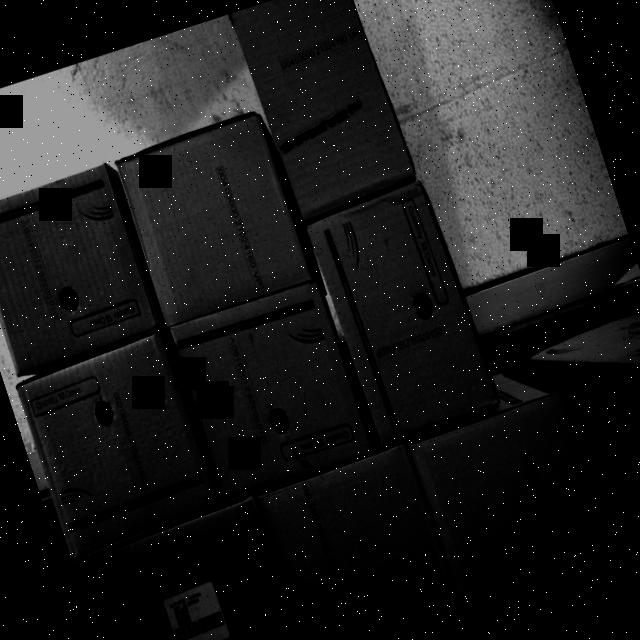box: (306, 187, 506, 449), (406, 389, 616, 610), (172, 288, 378, 508), (15, 338, 221, 556), (116, 111, 316, 331), (232, 0, 420, 222), (259, 450, 463, 640), (0, 161, 161, 376), (74, 498, 306, 640)
